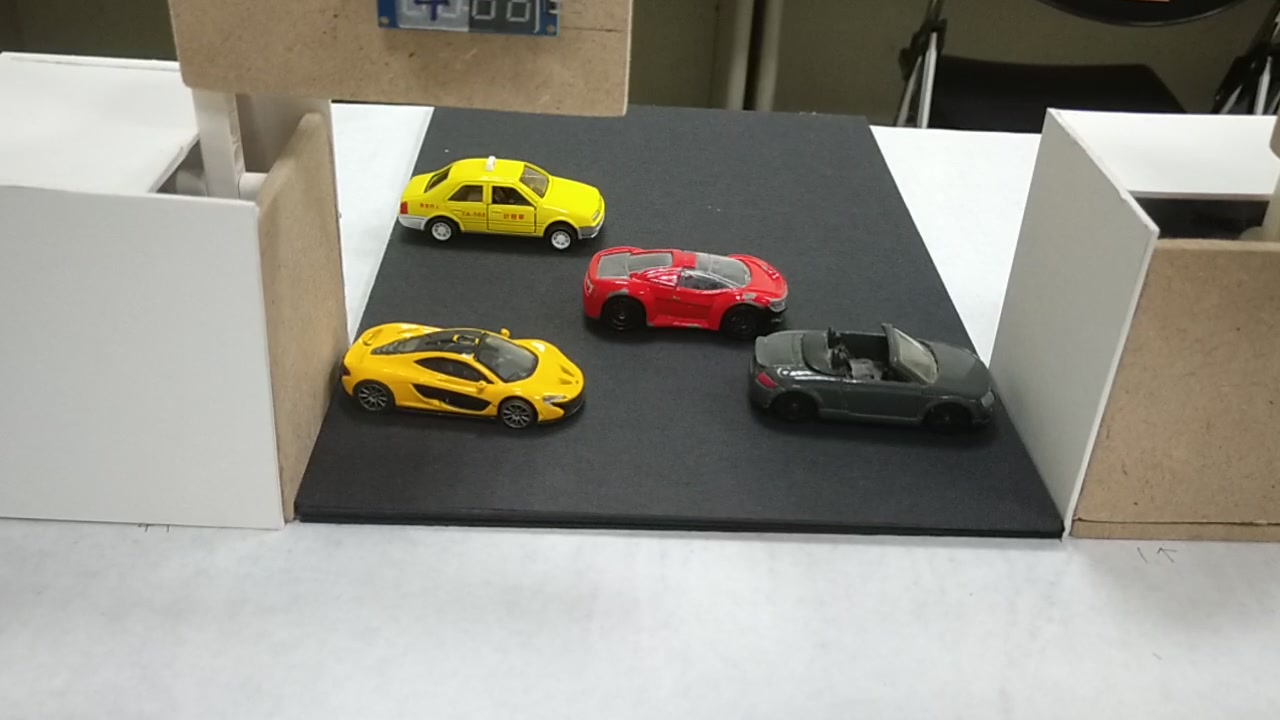car: (341, 325, 588, 435), (751, 335, 991, 433), (585, 253, 788, 336), (397, 171, 604, 247)
